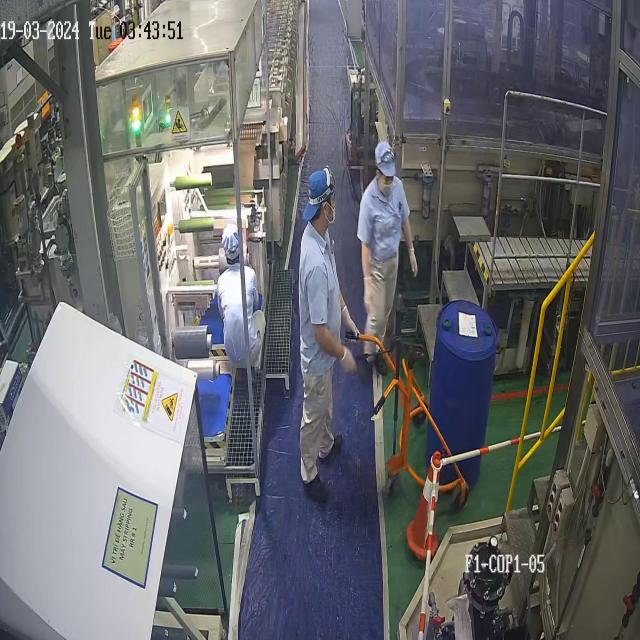Person: (298, 165, 360, 502), (356, 141, 418, 375), (216, 222, 262, 374)
